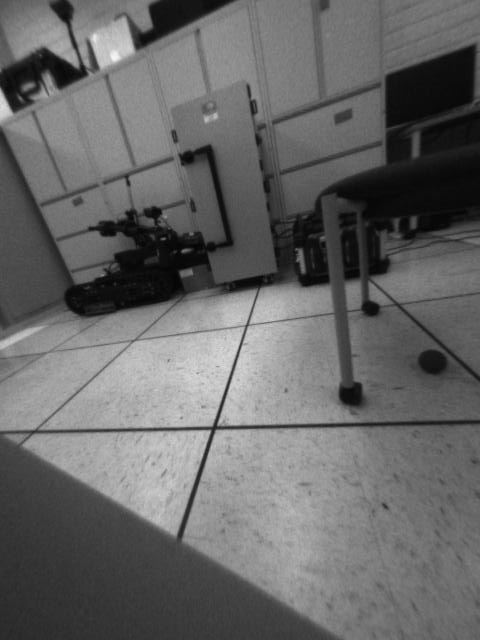dogtoy: (413, 342, 453, 380)
